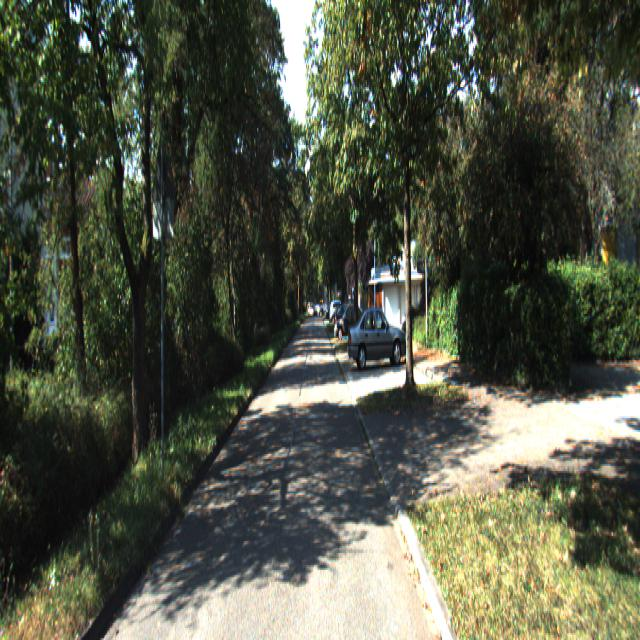Car: (347, 303, 407, 369), (334, 302, 364, 340)
